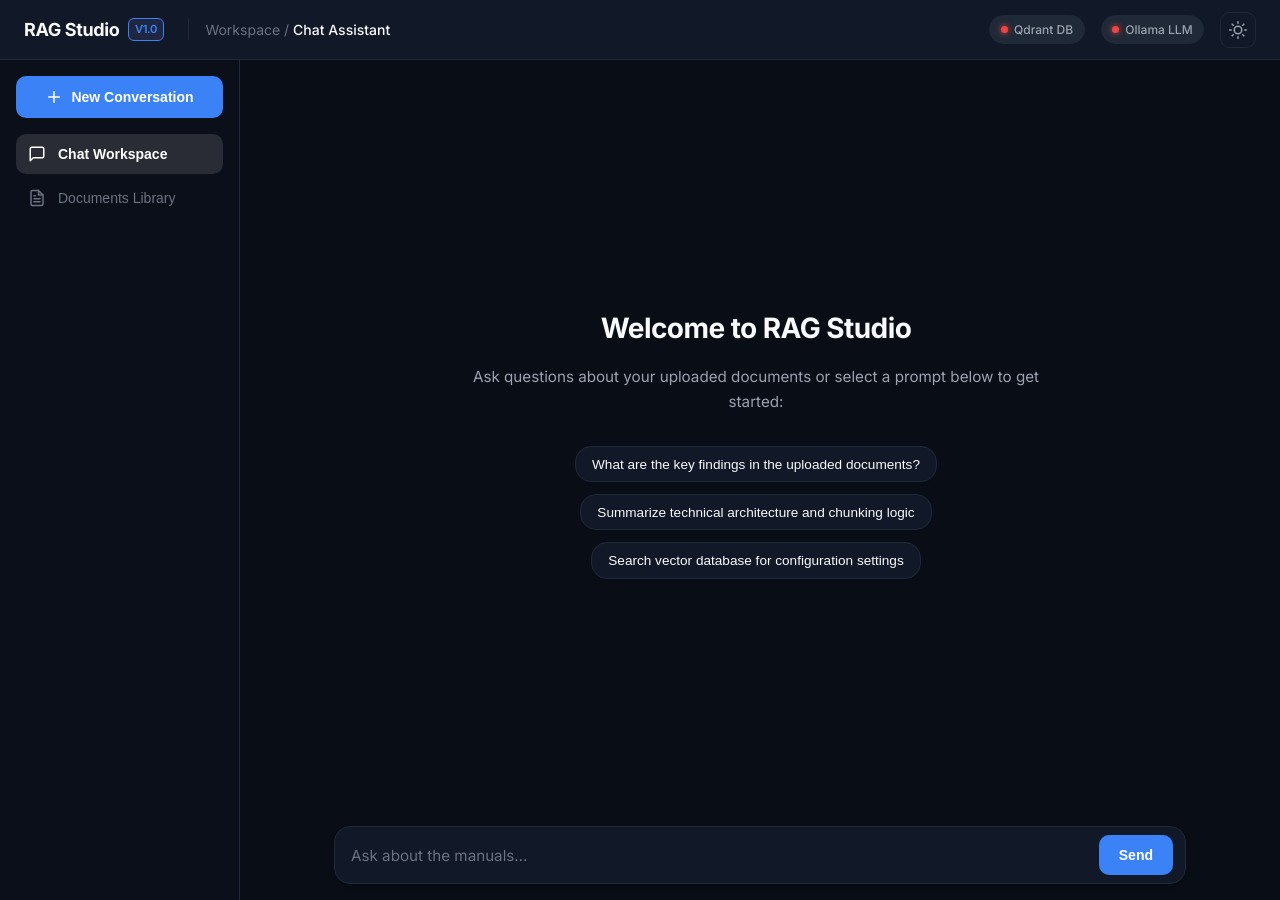
Test: App › switches to the Documents tab
Click the button "Documents Library" at (120, 198), box top-left (16, 178), bottom-right (223, 218)
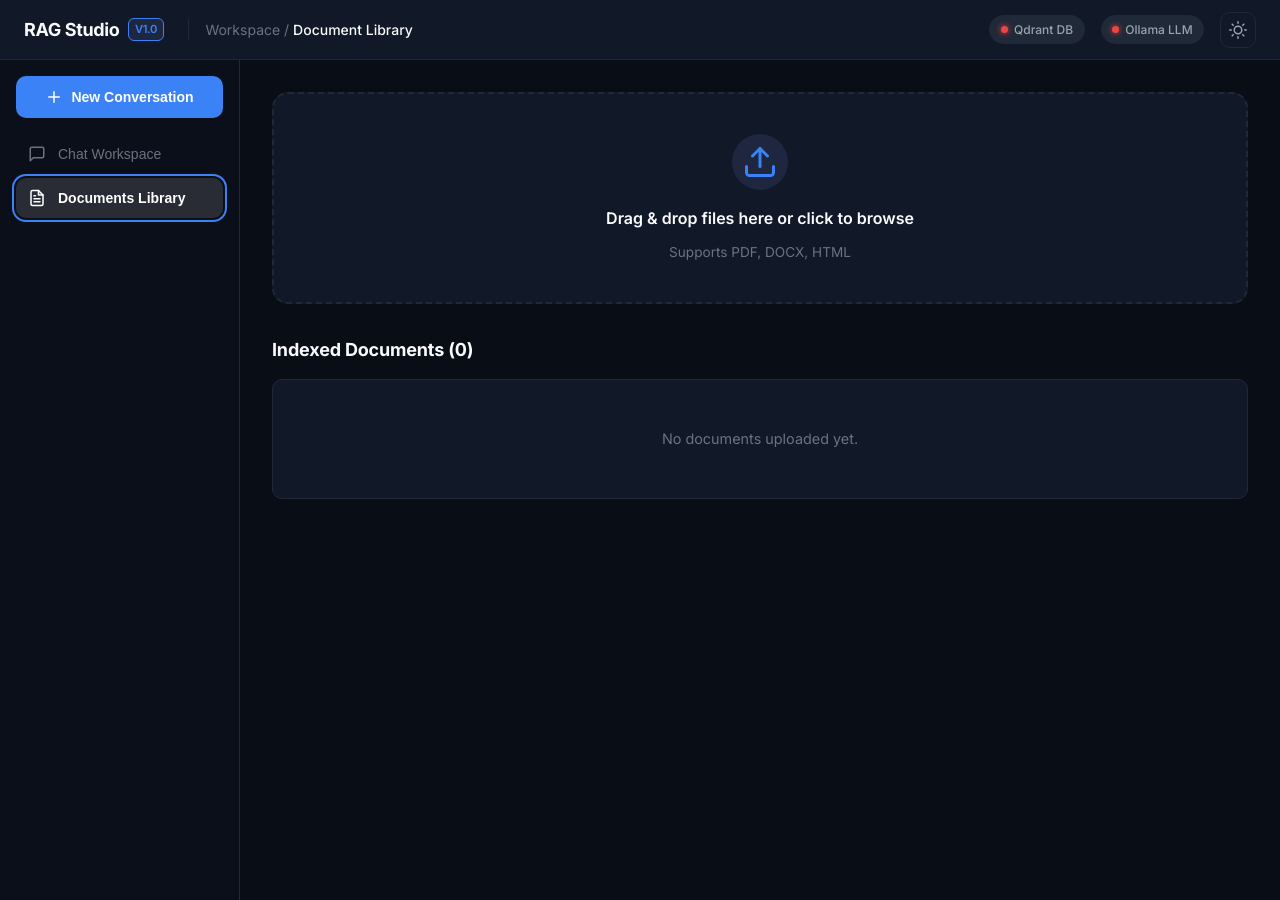
Result: the button named "Upload manual" is shown at top-left (272, 92), bottom-right (1248, 304)
